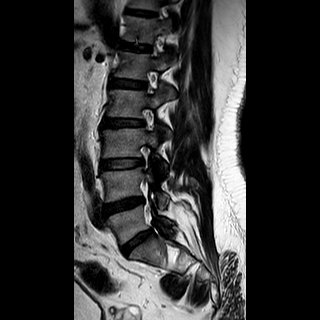LFS0: (139, 64, 162, 99), (135, 101, 158, 135)
